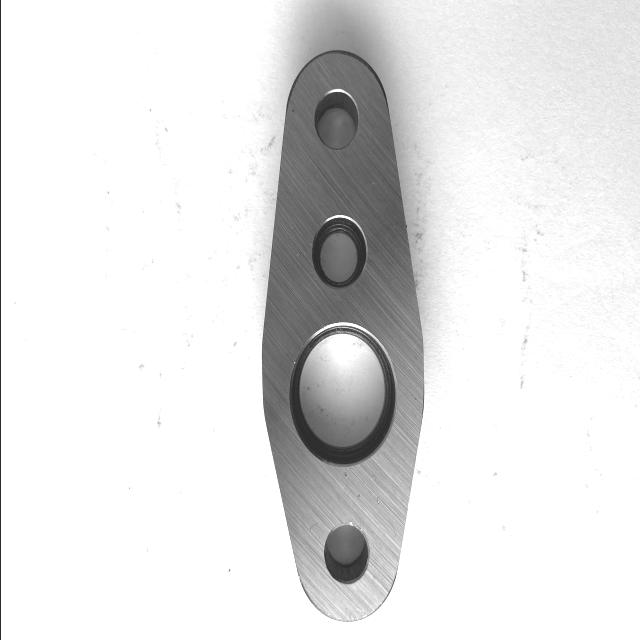chap: (342, 471, 348, 478), (308, 240, 312, 250), (374, 500, 380, 506), (348, 520, 353, 526)
